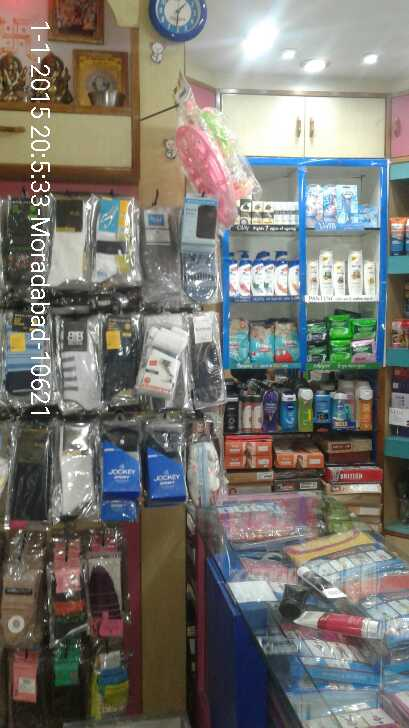venus: (338, 185, 360, 224), (322, 185, 338, 220), (306, 185, 322, 220), (360, 204, 379, 224)
